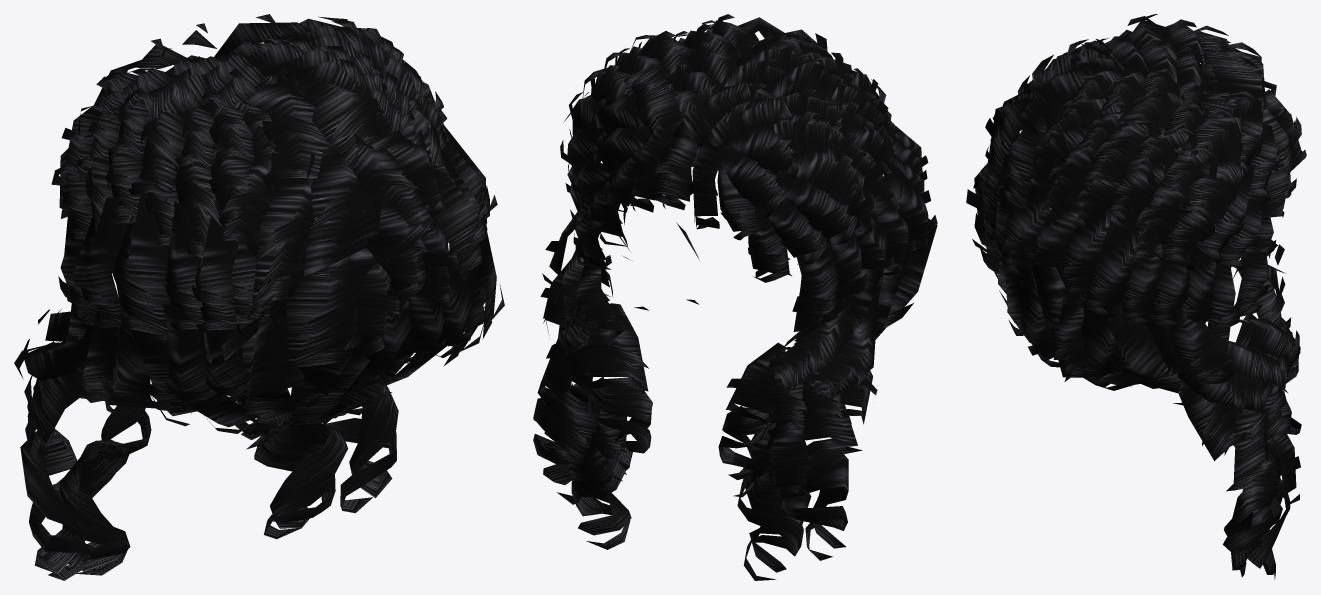
3 views of the same model, side by side, from view 1: azimuth 30°, elevation 25°; view 2: azimuth 150°, elevation 25°; view 3: azimuth 270°, elevation 25° (orthographic). The views are drawn at different scales.
Parts seen in each view (by area): view 1: geometry_0; view 2: geometry_0; view 3: geometry_0.
Boxes of the visible parts, bbox=[...] form: geometry_0: bbox=[14, 14, 504, 580]; geometry_0: bbox=[533, 14, 937, 580]; geometry_0: bbox=[966, 14, 1306, 579].
Bounding box in the file's own units: 1.94 × 2.55 × 1.63.
1 material, 1 textured.
